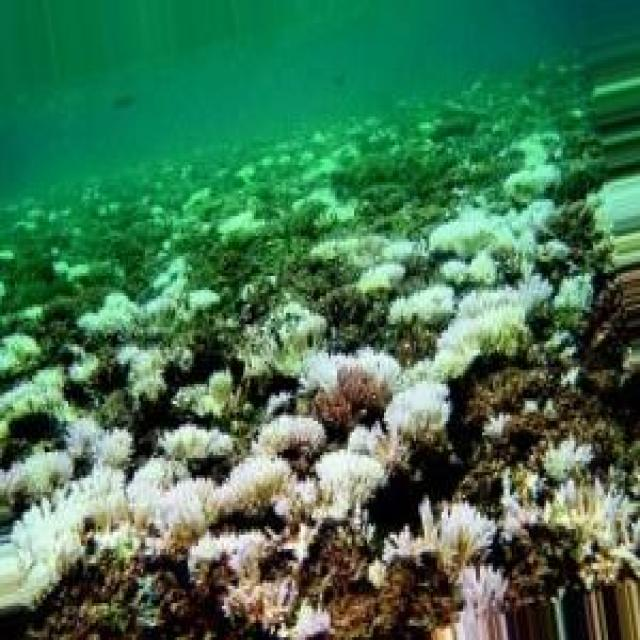bleached coral: (0, 478, 117, 600), (307, 356, 448, 435), (73, 307, 190, 395), (314, 236, 437, 302), (444, 287, 546, 356), (427, 202, 553, 256), (412, 503, 499, 580), (205, 452, 294, 523), (593, 168, 640, 270)
